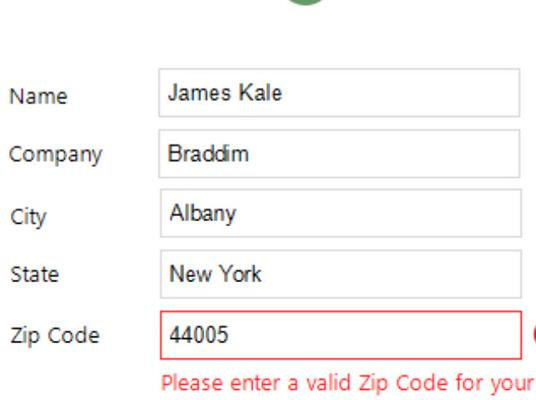field: (157, 309, 522, 361), (156, 67, 520, 119), (157, 187, 522, 238), (158, 248, 521, 299), (157, 129, 520, 179)
field_with_label: (9, 65, 522, 121), (10, 307, 523, 363), (9, 246, 524, 301), (10, 185, 524, 240), (10, 127, 522, 181)
